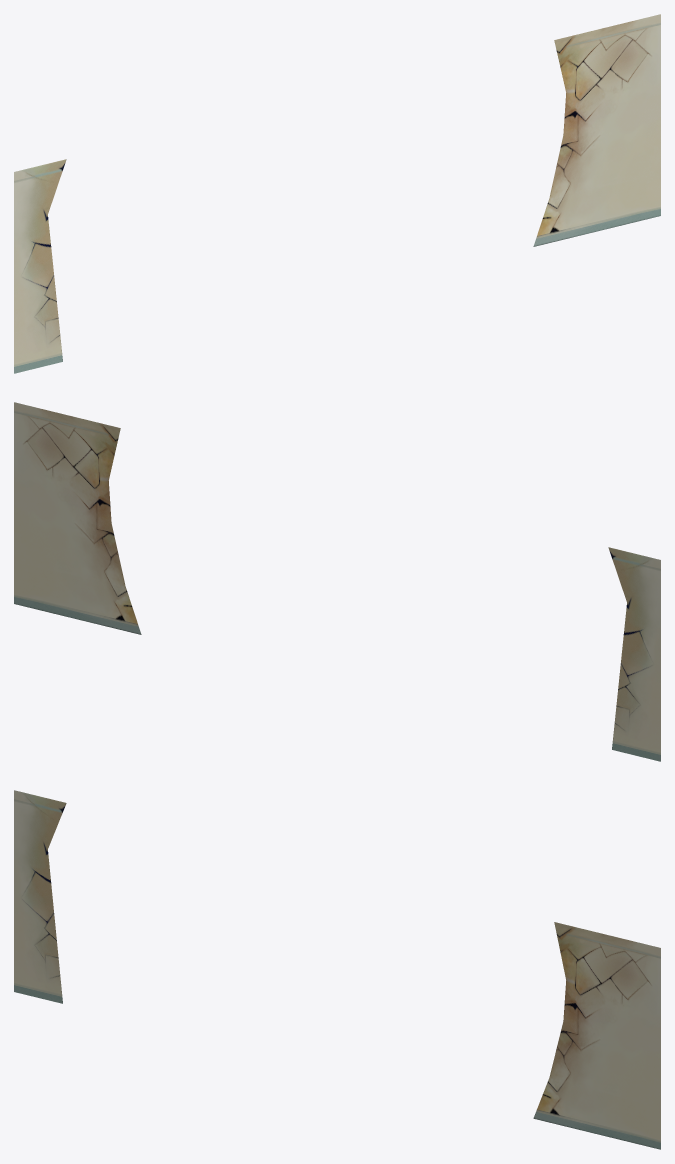
The model's file is wz_qiang4.FBX.
The picture shows the model from 3 angles, top to bottom: view 1: azimuth 30°, elevation 25°; view 2: azimuth 150°, elevation 25°; view 3: azimuth 330°, elevation 25°; orthographic projection.
Visible parts, largest first — view 1: wz_qiangmian_03; view 2: wz_qiangmian_03; view 3: wz_qiangmian_03.
Boxes of the visible parts, x1,y1,x2,y2 form: wz_qiangmian_03: [14, 14, 660, 373]; wz_qiangmian_03: [14, 402, 660, 761]; wz_qiangmian_03: [14, 790, 660, 1149].
Size of the model in its own units: 19.8 by 5.9 by 7.63e-06.
